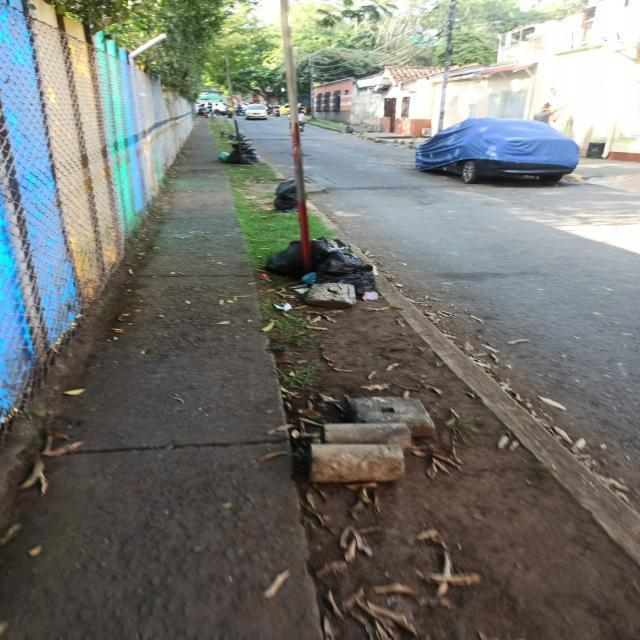Trashbag: (260, 235, 377, 304), (271, 178, 304, 215), (230, 138, 260, 168)
